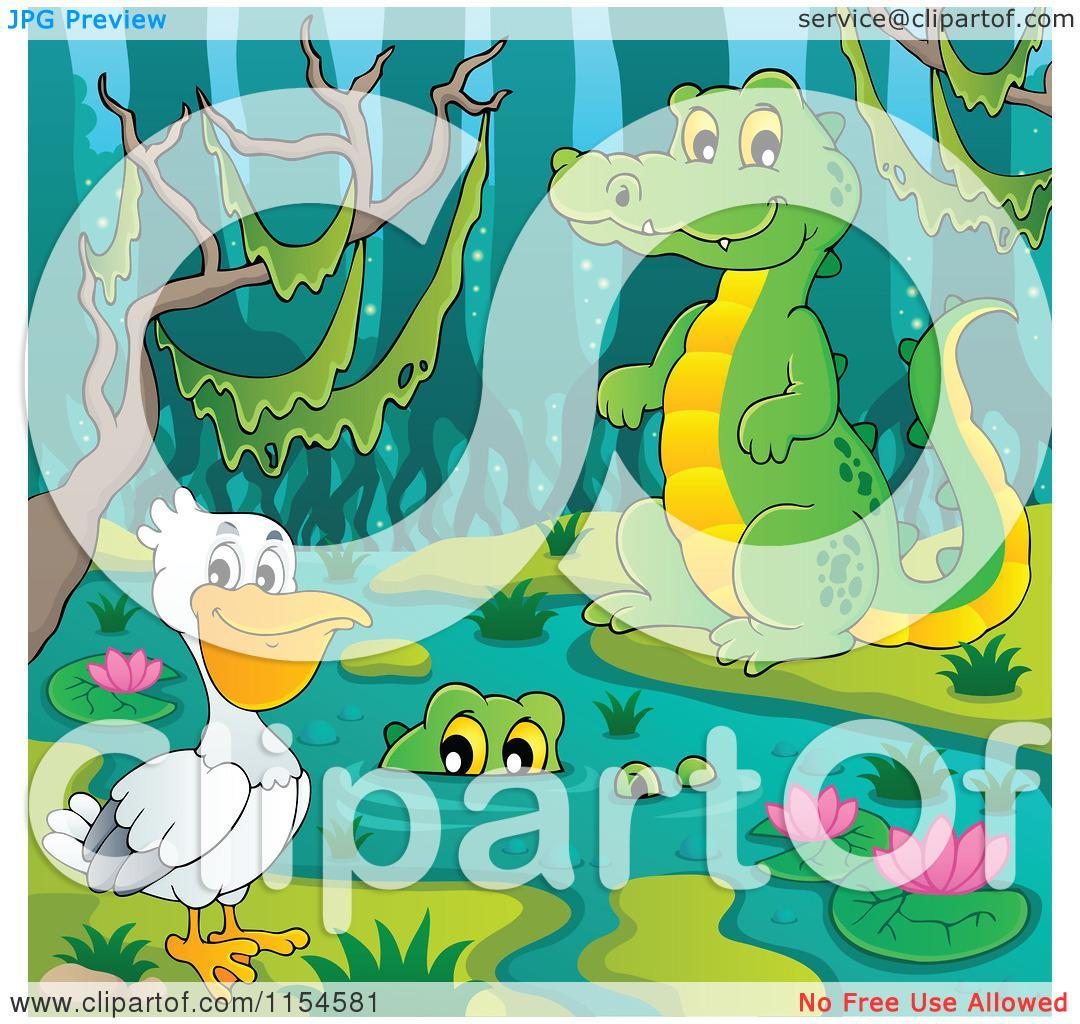bird: (58, 475, 359, 967)
